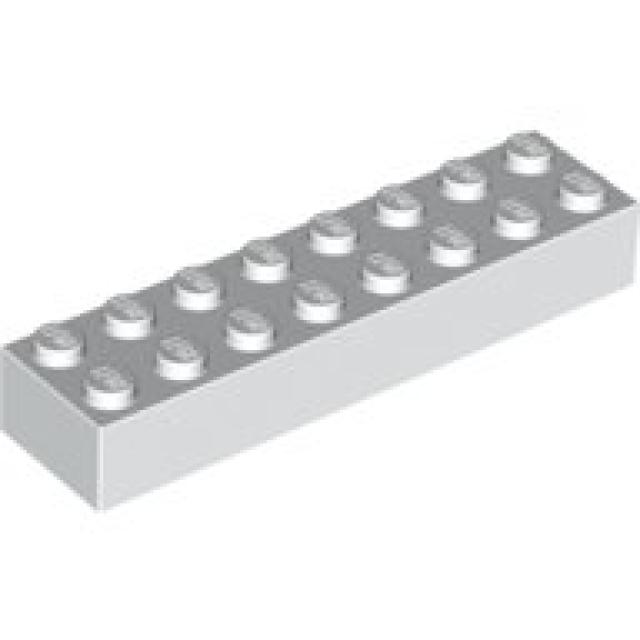White_Large: (0, 130, 640, 517)
